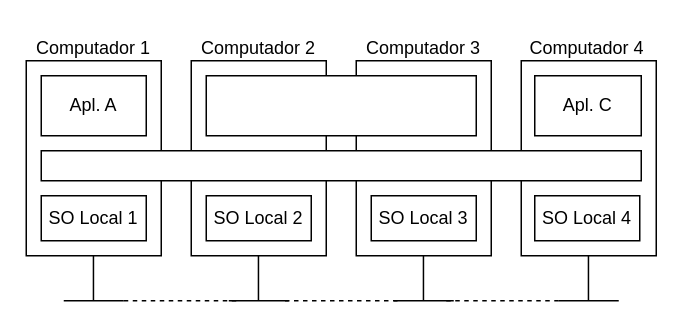
Image size: 683x329. Some labels were removed from this diagram. Here are the shapes that lost their labels. From the top down, the centre of each, then its label:
At point (340, 105): "Aplicação B".
At point (340, 165): "Camada do sistema distribuído (middleware)".
